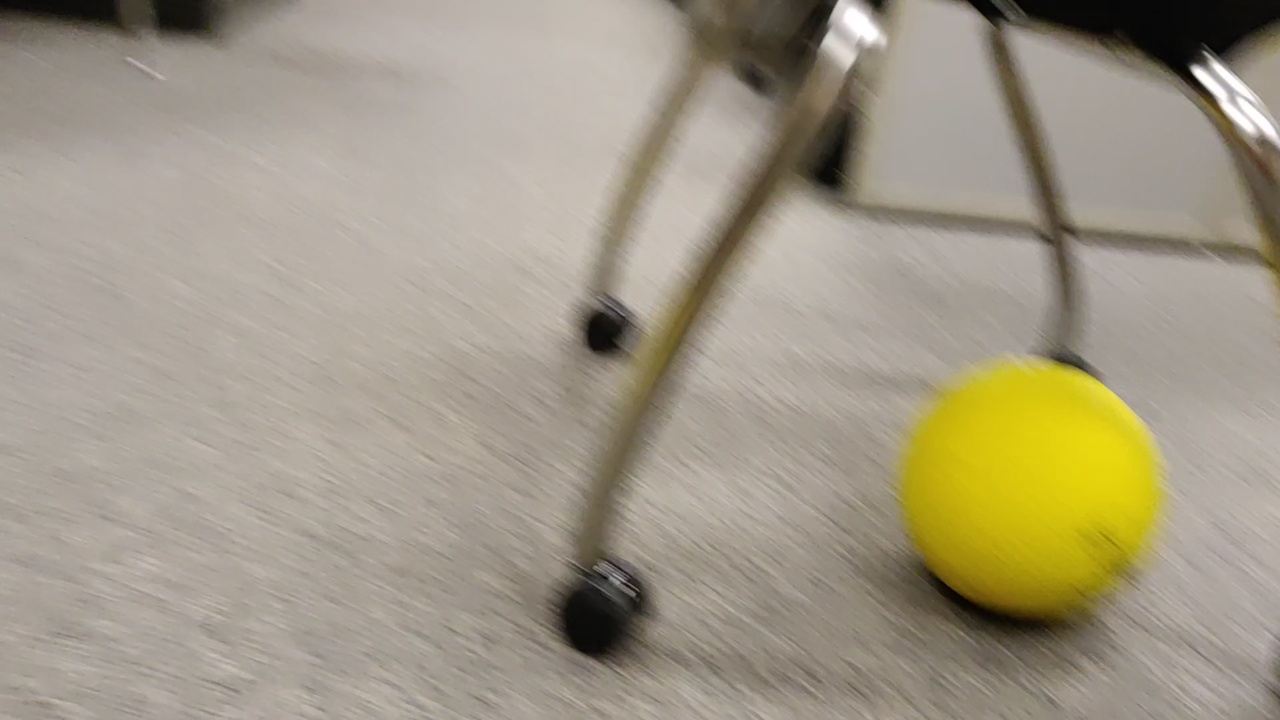Ball: (898, 355, 1183, 636)
